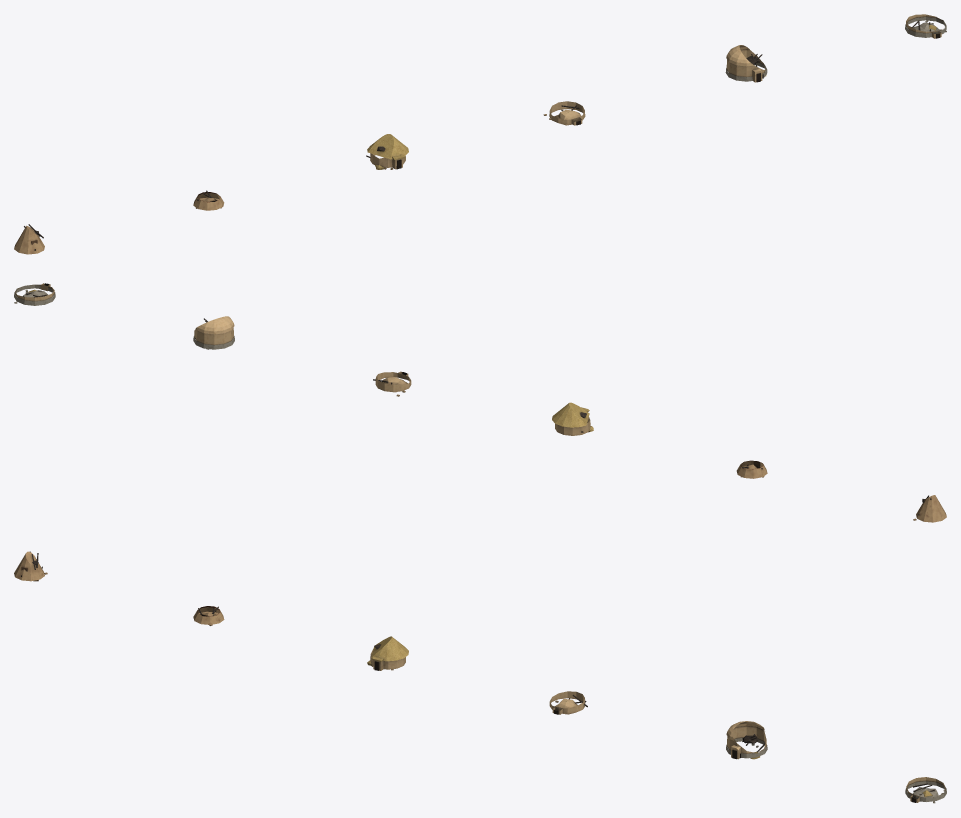
File: stone-maghreb-houses-damage.glb
3 renders of one model, top to bottom at view 1: azimuth 30°, elevation 25°; view 2: azimuth 150°, elevation 25°; view 3: azimuth 330°, elevation 25°, orthographic.
Visible parts, largest first — view 1: LOD0.004, LOD0.002, LOD0.005, LOD0.003, LOD0; view 2: LOD0.004, LOD0.002, LOD0.005, LOD0.003, LOD0; view 3: LOD0.004, LOD0.002, LOD0.005, LOD0.003, LOD0.
Boxes of the visible parts, bbox=[...] form: LOD0.004: bbox=[725, 45, 767, 82]; LOD0.002: bbox=[366, 134, 408, 169]; LOD0.005: bbox=[905, 14, 946, 38]; LOD0.003: bbox=[543, 101, 585, 125]; LOD0: bbox=[14, 224, 44, 254]; LOD0.004: bbox=[193, 316, 234, 349]; LOD0.002: bbox=[552, 402, 593, 435]; LOD0.005: bbox=[14, 283, 55, 305]; LOD0.003: bbox=[373, 371, 411, 396]; LOD0: bbox=[913, 495, 946, 522]; LOD0.004: bbox=[726, 721, 767, 759]; LOD0.002: bbox=[367, 636, 408, 670]; LOD0.005: bbox=[905, 777, 946, 803]; LOD0.003: bbox=[549, 691, 587, 714]; LOD0: bbox=[14, 551, 47, 581].
Size of what is drawn, in the model's own units: 15.52 by 0.4295 by 0.6678.
Materials: 1 (1 with a texture image).
